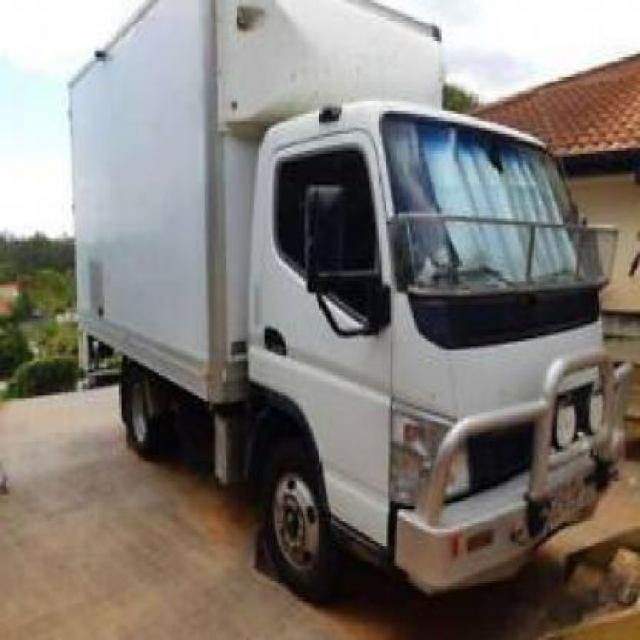truck: (73, 1, 635, 590)
